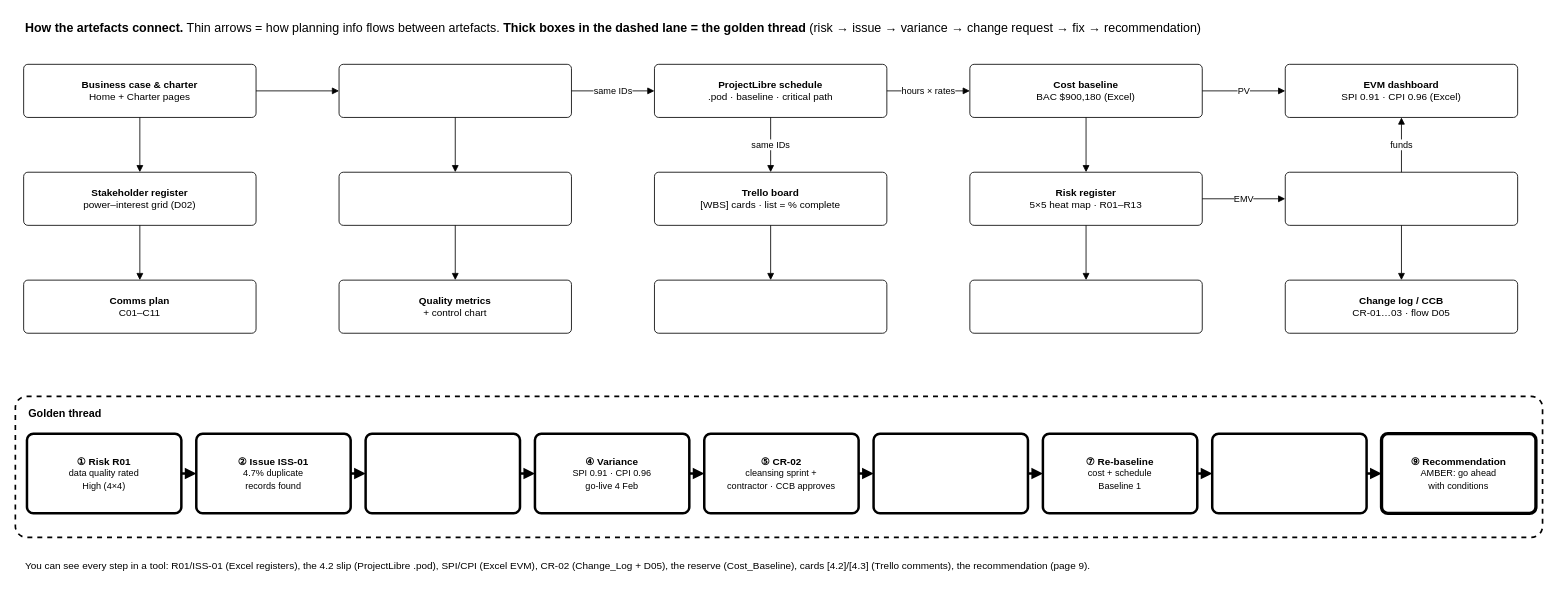
Some shapes in this 1557 by 601 pixel diagram are drawn without their labels. Each missing label, with the centre of its shape:
Contingency reserve Σ threat EMV $90,750: point 1401,198
Issue log ISS-01 … ISS-05: point 1085,306
RACI one Accountable per deliverable: point 454,198
Scope & WBS D01 · 30 work packages: point 454,90
Team structure D03 · resources & rates: point 770,306
③ Schedule critical task 4.2 +10 days (ProjectLibre): point 442,473
⑥ Reserve $23,800 drawn from contingency: point 950,473
⑧ Tracking & comms Trello cards moved; Registrar/Privacy told (C06): point 1289,473
